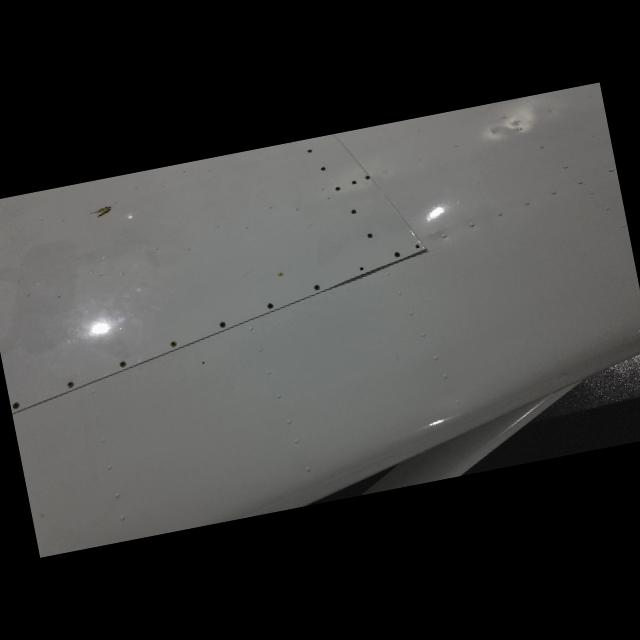Missing Fastener: (357, 265, 367, 273)
dent: (329, 260, 388, 289)
